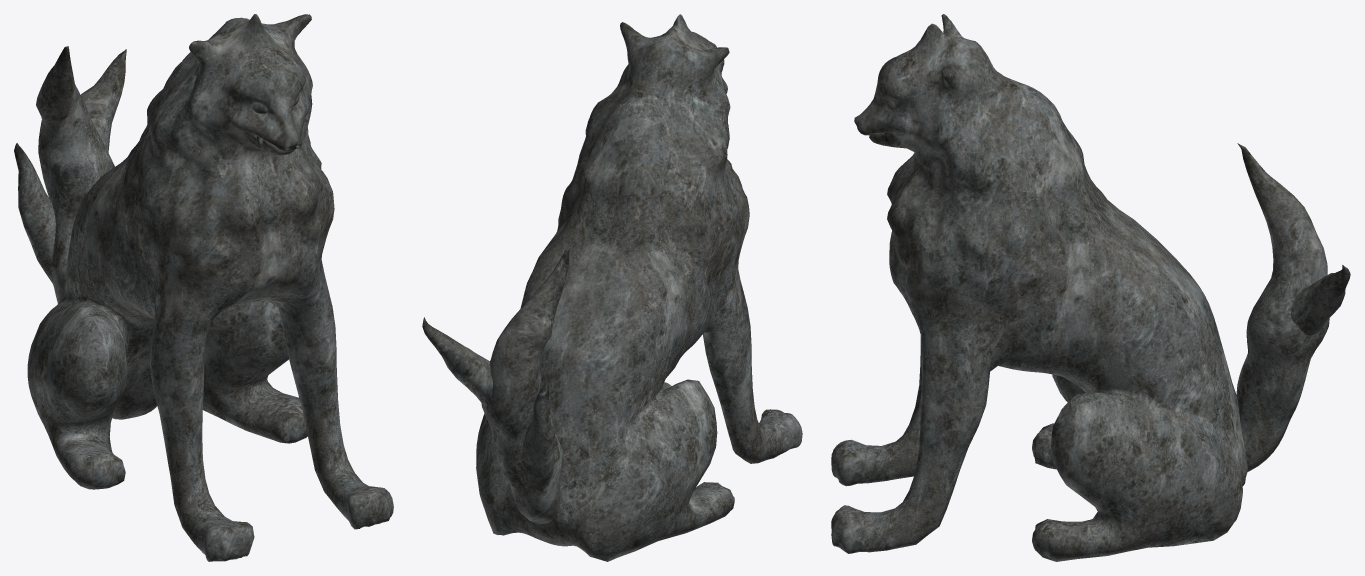
File: Komainu.fbx
3 views of the same model, side by side, from view 1: azimuth 30°, elevation 25°; view 2: azimuth 150°, elevation 25°; view 3: azimuth 270°, elevation 25° (orthographic). The views are drawn at different scales.
Visible parts, largest first — view 1: Komainu; view 2: Komainu; view 3: Komainu.
Boxes of the visible parts, <box> form: Komainu: <box>14,14,393,561</box>; Komainu: <box>422,14,802,561</box>; Komainu: <box>831,14,1350,561</box>.
Bounding box in the file's own units: 0.5258 × 1.03 × 0.9825.
